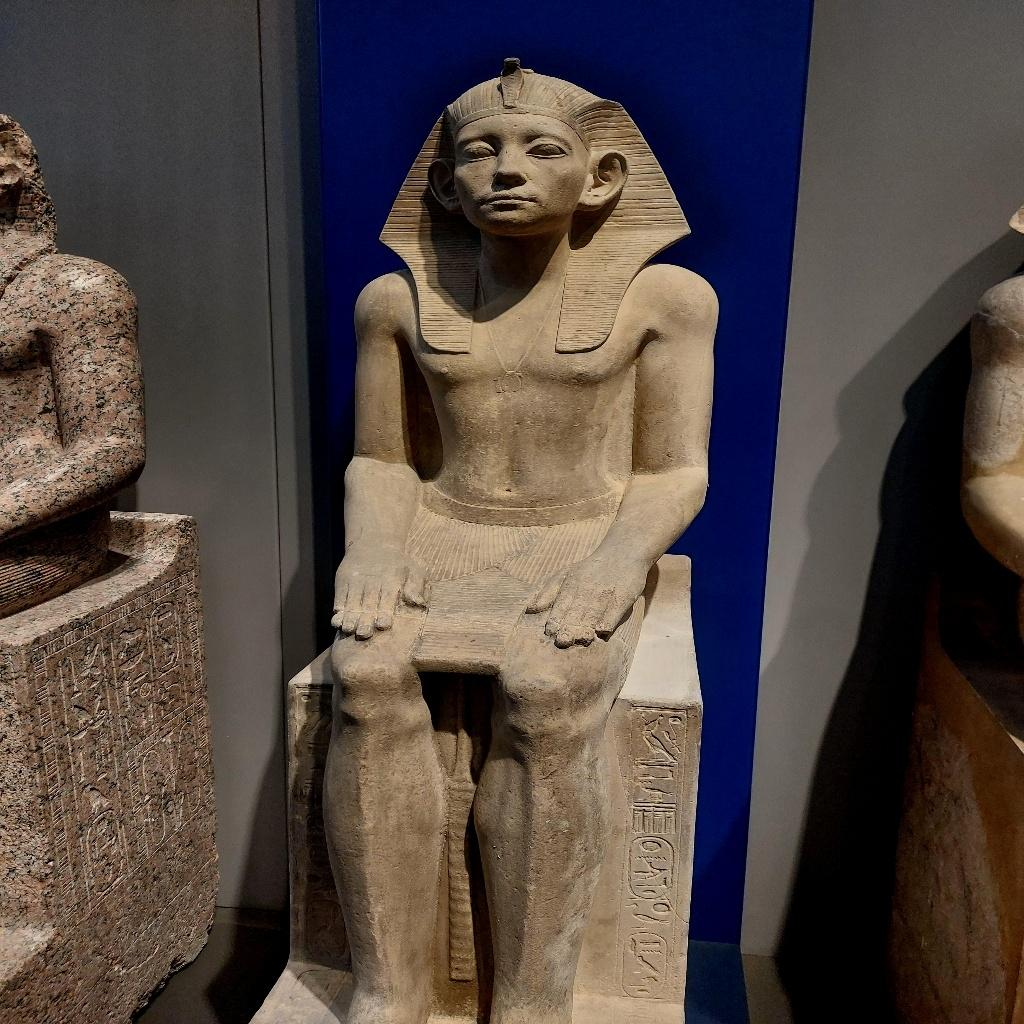King Amenemhat 3: (314, 56, 722, 1022)
